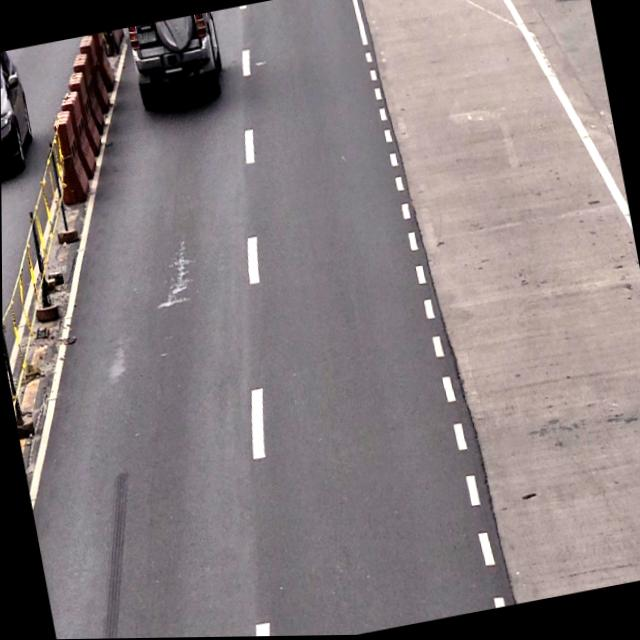Car: (123, 12, 227, 114)
